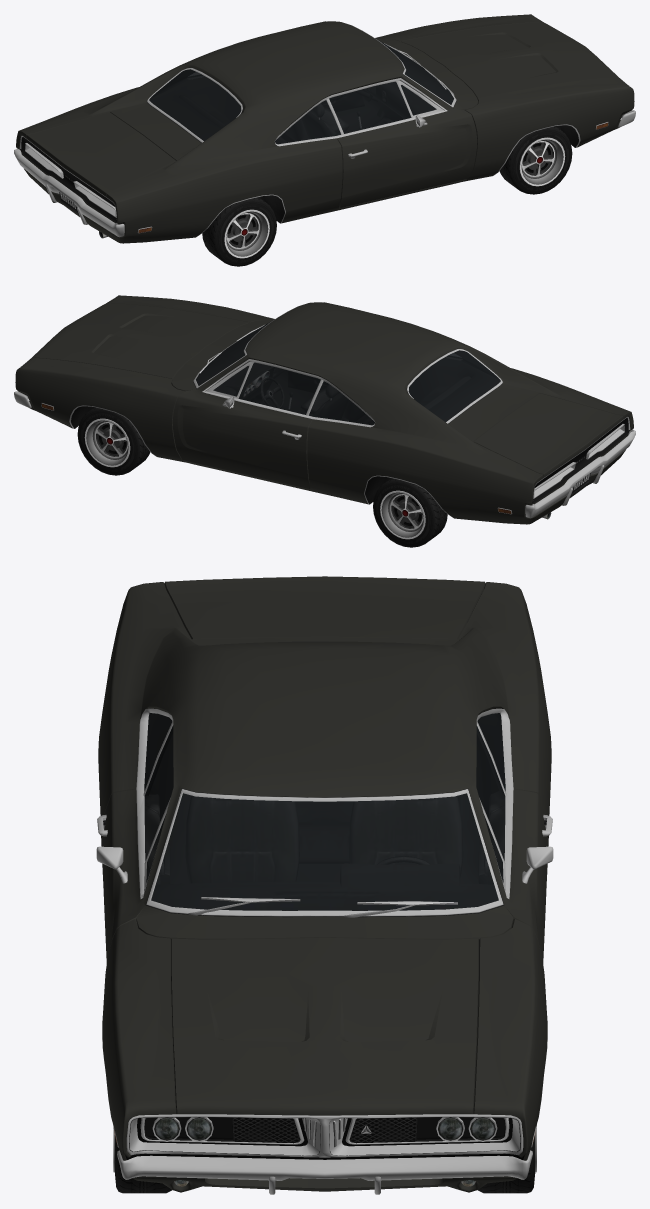
The model's file is duke-69-46fed7.glb.
3 views of the same model, one above another, from view 1: azimuth 30°, elevation 25°; view 2: azimuth 150°, elevation 25°; view 3: azimuth 270°, elevation 25° (orthographic). The views are drawn at different scales.
Parts seen in each view (by area): view 1: Duke69_Body_Duke69_bodymat_0, Duke69_Body_Glass_UCB_Lights_and_Glass_Transperent_0, Duke69_Interior_UCB_Interiors_2_0, Duke69_Bottom_UCB_BOTTOM_LT_0, Duke69_WhellStock_FL_RB1c_Tire_1k_0; view 2: Duke69_Body_Duke69_bodymat_0, Duke69_Body_Glass_UCB_Lights_and_Glass_Transperent_0, Duke69_Interior_UCB_Interiors_2_0, Duke69_Bottom_UCB_BOTTOM_LT_0, Duke69_WhellStock_FL_RB1c_Tire_1k_0; view 3: Duke69_Body_Duke69_bodymat_0, Duke69_Body_Glass_UCB_Lights_and_Glass_Transperent_0, Duke69_Interior_UCB_Interiors_2_0, Duke69_Bottom_UCB_BOTTOM_LT_0, Duke69_WhellStock_FL_RB1c_Tire_1k_0, Duke69_Brakelights_UCB_Lights_and_Glass_0.
Boxes of the visible parts, box(x1,y1,x2,y2) form: Duke69_Body_Duke69_bodymat_0: box(16, 14, 634, 243); Duke69_Body_Glass_UCB_Lights_and_Glass_Transperent_0: box(149, 39, 453, 144); Duke69_Interior_UCB_Interiors_2_0: box(149, 46, 453, 143); Duke69_Bottom_UCB_BOTTOM_LT_0: box(14, 22, 635, 238); Duke69_WhellStock_FL_RB1c_Tire_1k_0: box(202, 126, 572, 266); Duke69_Body_Duke69_bodymat_0: box(15, 295, 633, 524); Duke69_Body_Glass_UCB_Lights_and_Glass_Transperent_0: box(196, 320, 500, 425); Duke69_Interior_UCB_Interiors_2_0: box(196, 327, 500, 424); Duke69_Bottom_UCB_BOTTOM_LT_0: box(14, 303, 635, 519); Duke69_WhellStock_FL_RB1c_Tire_1k_0: box(77, 407, 447, 547); Duke69_Body_Duke69_bodymat_0: box(98, 576, 551, 1192); Duke69_Body_Glass_UCB_Lights_and_Glass_Transperent_0: box(144, 713, 505, 910); Duke69_Interior_UCB_Interiors_2_0: box(144, 713, 505, 917); Duke69_Bottom_UCB_BOTTOM_LT_0: box(96, 708, 553, 1194); Duke69_WhellStock_FL_RB1c_Tire_1k_0: box(113, 1125, 536, 1193); Duke69_Brakelights_UCB_Lights_and_Glass_0: box(154, 1118, 495, 1140).
Size of the model in its own units: 4.9 by 1.31 by 1.84.
8 materials, 7 textured.
